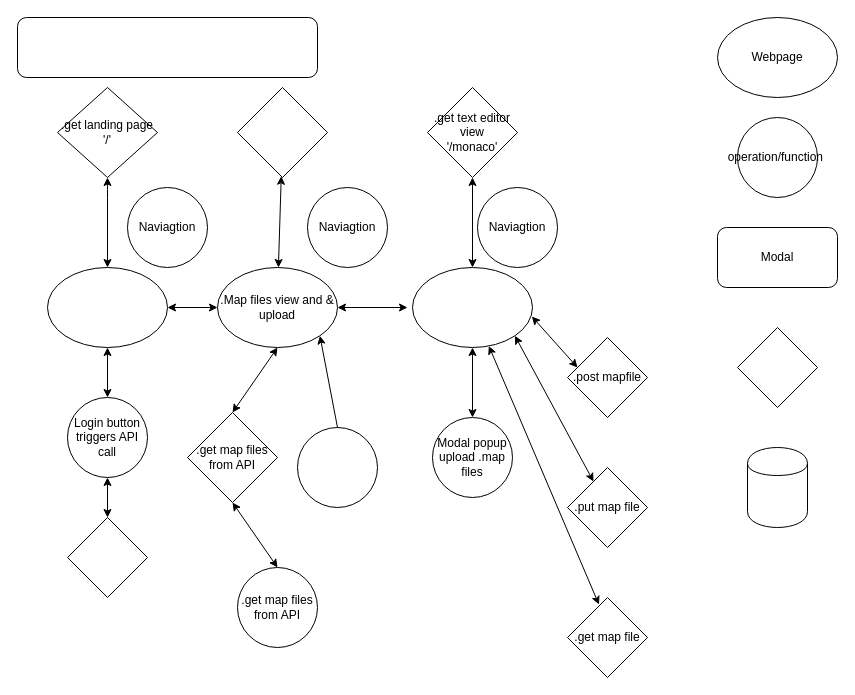
This 855x695 diagram has some shape labels left out. Each missing label, with the box of its shape:
.get mapfile list view '/mapview': (236, 86, 328, 178)
.Post to make .map file from template: (296, 426, 378, 508)
Authentication .get Request to API: (66, 516, 148, 598)
DB: (746, 446, 808, 528)
Front-End of MapServer Editor: (16, 16, 318, 78)
Login Page: (46, 266, 168, 348)
Monaco text editor: (412, 266, 532, 348)
routes: (736, 326, 818, 408)
